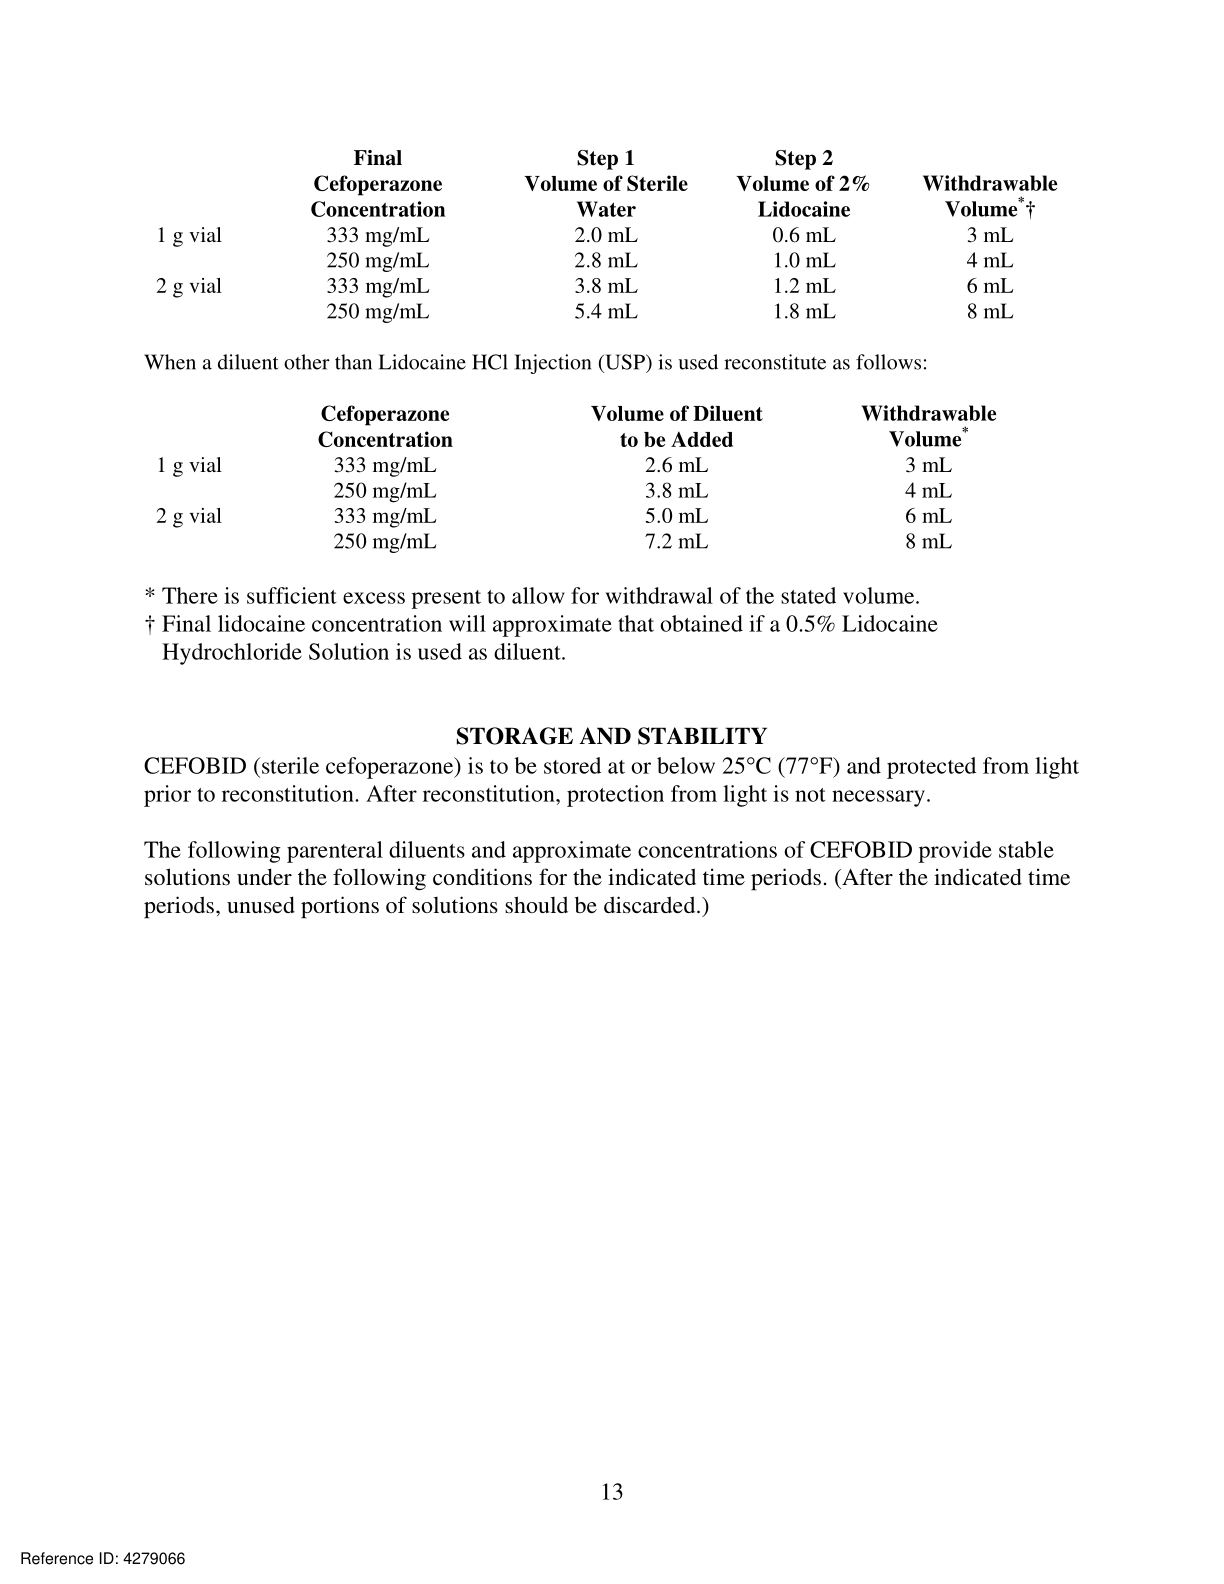nolines: (154, 144, 1057, 324), (154, 401, 999, 555)
